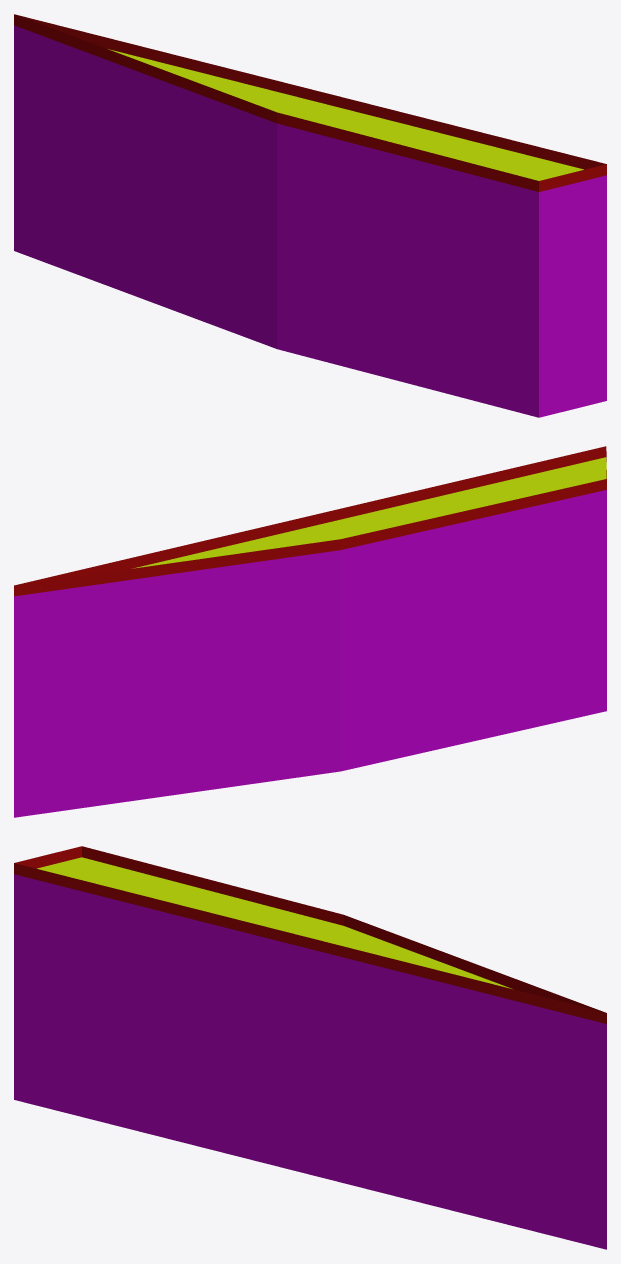
File: scl_13.glb
The picture shows the model from 3 angles, top to bottom: view 1: azimuth 90°, elevation 25°; view 2: azimuth 150°, elevation 25°; view 3: azimuth 270°, elevation 25°; orthographic projection.
Visible parts, largest first — view 1: scl_13; view 2: scl_13; view 3: scl_13.
Boxes of the visible parts, x1,y1,x2,y2 form: scl_13: (14, 14, 606, 417); scl_13: (14, 446, 606, 817); scl_13: (14, 846, 606, 1249).
Size of the model in its own units: 11.26 by 7.45 by 16.91.
